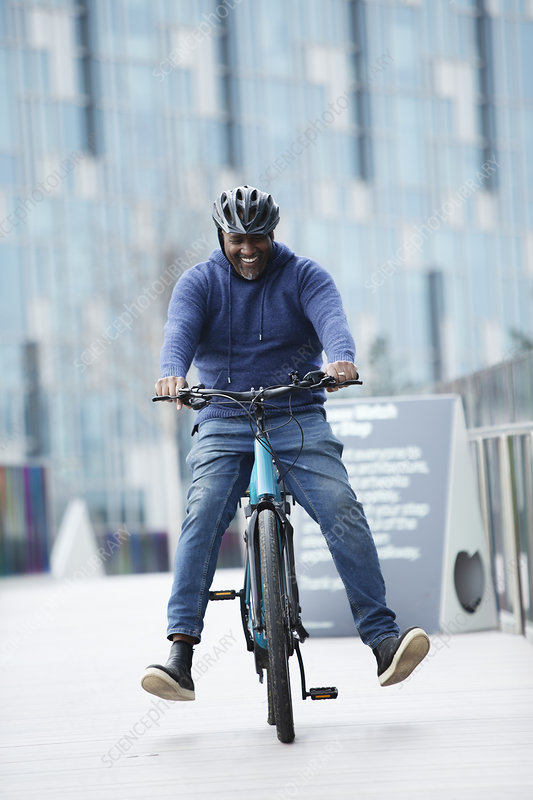Bicycle: (161, 382, 399, 752)
Person: (129, 180, 391, 479)
